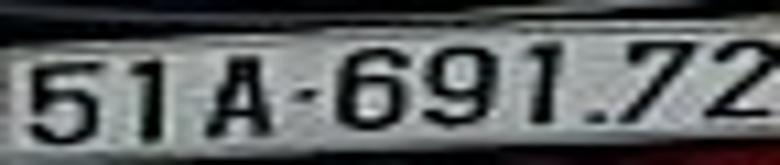-: (292, 89, 316, 101)
.: (586, 108, 606, 123)
1: (529, 40, 561, 123), (135, 57, 162, 142)
2: (709, 39, 778, 118)
5: (29, 62, 100, 146)
6: (339, 47, 408, 130)
7: (624, 39, 690, 125)
9: (426, 46, 495, 125)
A: (207, 56, 271, 138)
